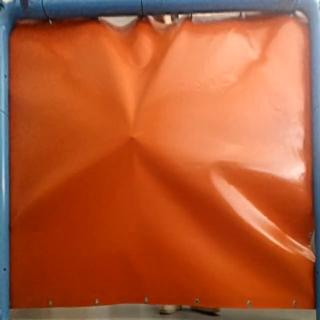Hit-hRxx: (125, 132, 143, 145)
